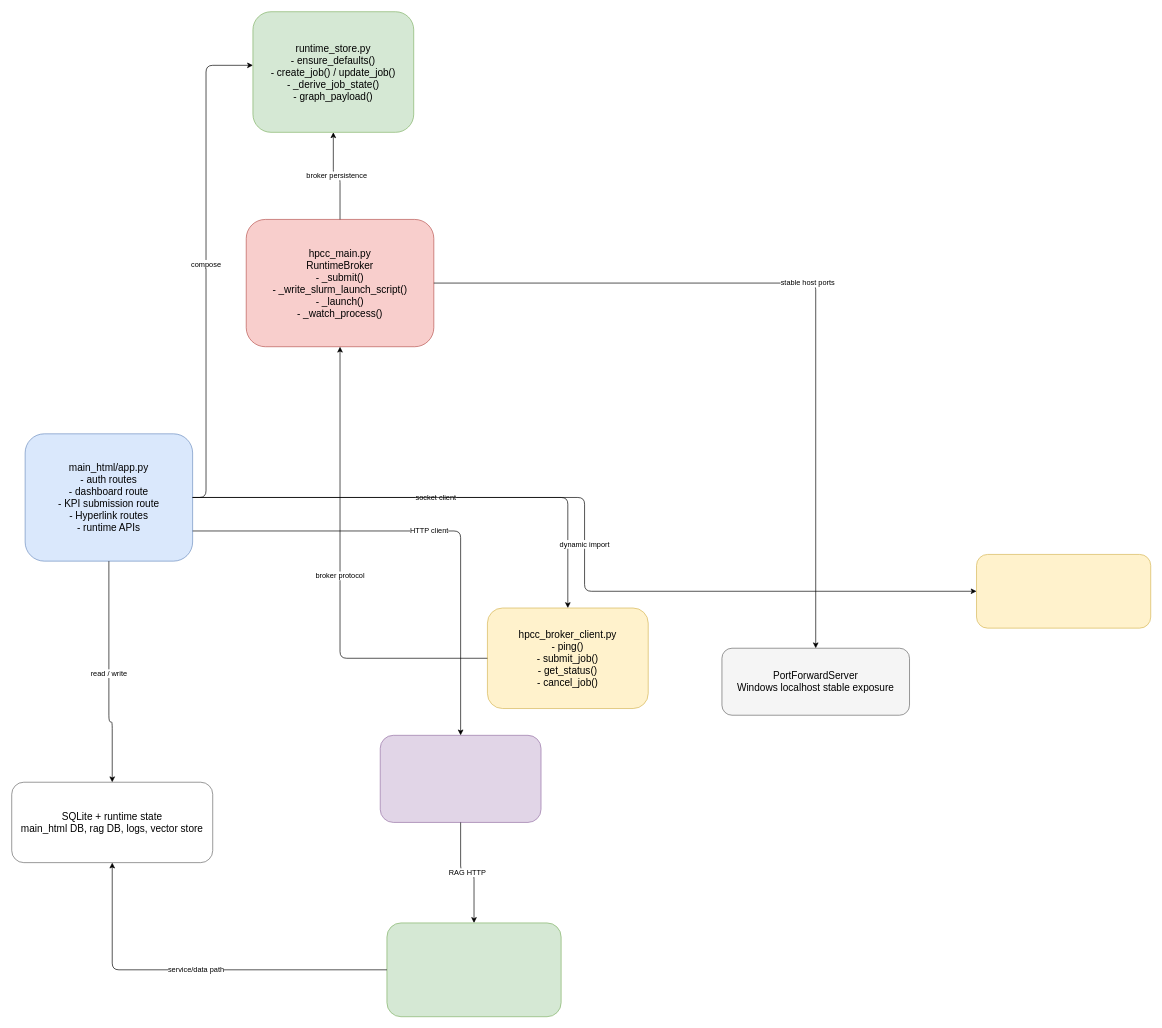
This 1162x1028 diagram has some shape labels left out. The shapes that lost their labels are listed below. From the top down, each one's centre as x and y in pixels, then its label:
At (x=1063, y=591): "Hyperlink html_online/main.py LogViewerApp".
At (x=460, y=778): "rag_client.py - ask() - health() - endpoint resolution".
At (x=473, y=969): "rag/app/* config, api, ingestor, engine, storage".
